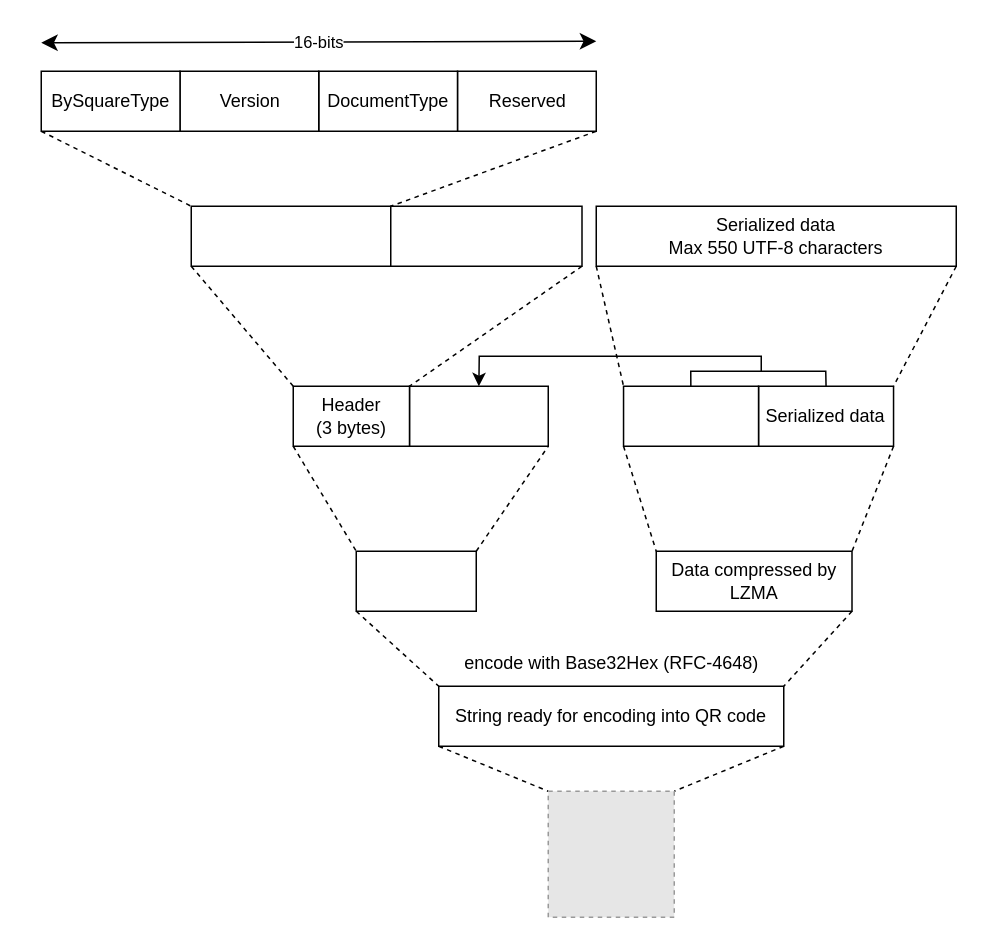
Some shapes in this 984 by 944 pixel diagram are drawn without their labels. Grey dashed boxes stand in for pictures. The shapes that lost their labels are listed below. From the top down, each one's centre as x and y in pixels, then its label:
point 290,235: Header bysquare (2 bytes)
point 485,235: LZMA properties (1 byte)
point 478,415: Data length (1 byte)
point 690,415: CRC32 (4 bytes)
point 415,580: Header (4 bytes)
